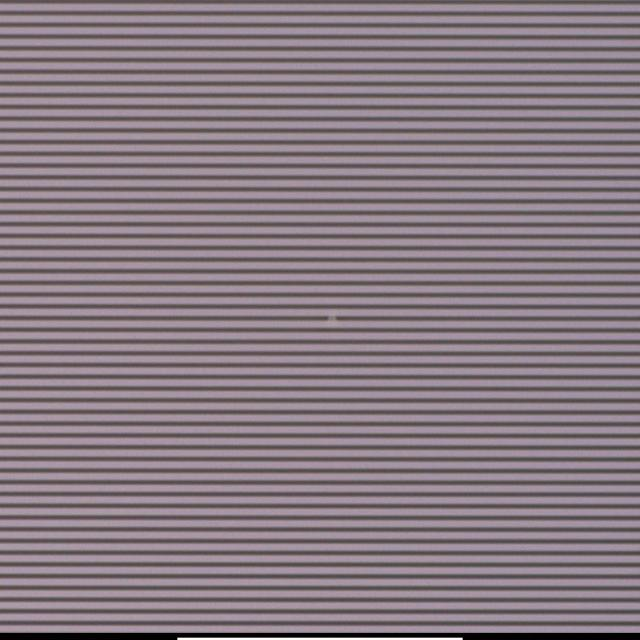03_intrusion: (326, 310, 342, 328)
